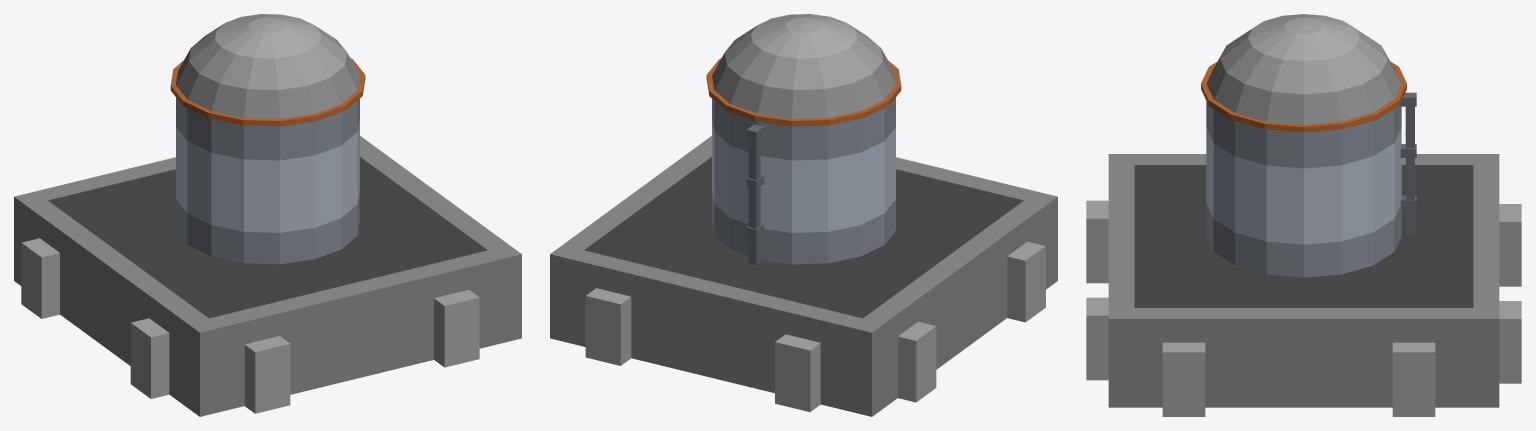
File: OilCan001.fbx
The picture shows the model from 3 angles, left to right: view 1: azimuth 30°, elevation 25°; view 2: azimuth 150°, elevation 25°; view 3: azimuth 270°, elevation 25°; orthographic projection. The views are drawn at different scales.
Visible parts, largest first — view 1: Oilcan001; view 2: Oilcan001; view 3: Oilcan001.
Part boxes in pixels (bbox=[...]): Oilcan001: bbox=[14, 14, 521, 416]; Oilcan001: bbox=[550, 14, 1057, 416]; Oilcan001: bbox=[1086, 14, 1521, 416].
Bounding box in the file's own units: 1072 × 816 × 1072.
